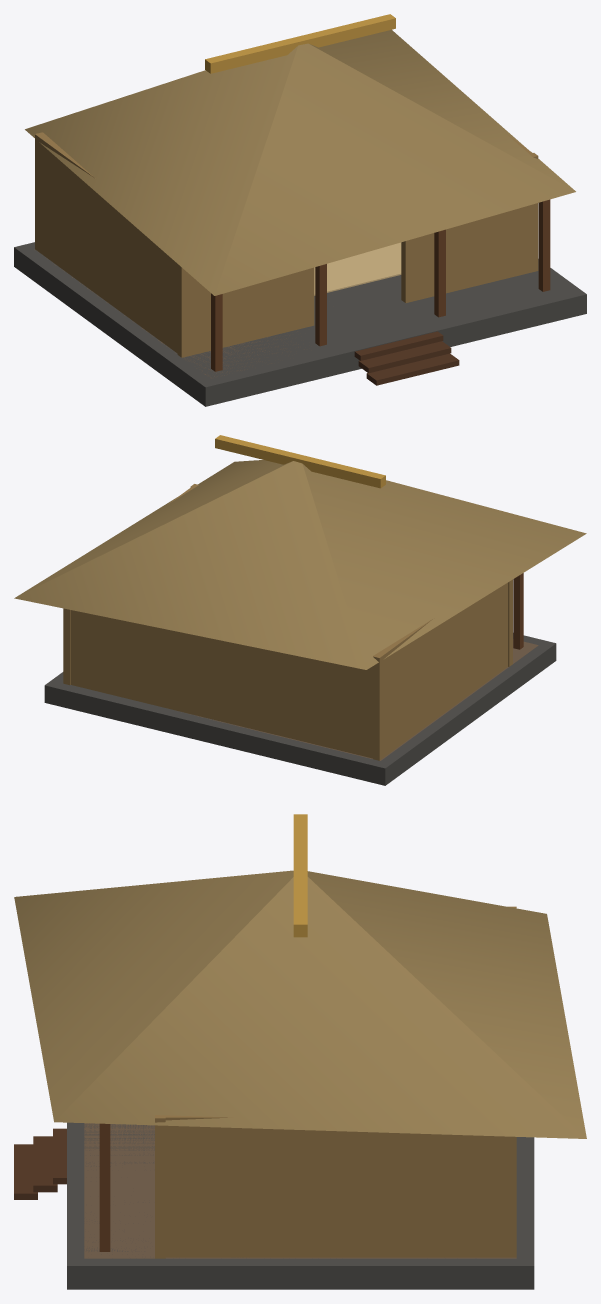
Rendered from bale-tani-sasak.glb.
3 renders of one model, top to bottom at view 1: azimuth 30°, elevation 25°; view 2: azimuth 150°, elevation 25°; view 3: azimuth 270°, elevation 25°, orthographic. The views are drawn at different scales.
Parts seen in each view (by area): view 1: ROOF_SYSTEM, WALL_SYSTEM, FOUNDATION_SYSTEM, STRUCTURAL_COLUMNS, ENTRANCE_STAIRS, INTERIOR_MAT; view 2: ROOF_SYSTEM, WALL_SYSTEM, FOUNDATION_SYSTEM, STRUCTURAL_COLUMNS, FLOOR_SYSTEM; view 3: ROOF_SYSTEM, WALL_SYSTEM, FOUNDATION_SYSTEM, FLOOR_SYSTEM, ENTRANCE_STAIRS, STRUCTURAL_COLUMNS.
Boxes of the visible parts, <box> form: ROOF_SYSTEM: <box>25,14,575,295</box>; WALL_SYSTEM: <box>35,132,538,357</box>; FOUNDATION_SYSTEM: <box>14,242,586,406</box>; STRUCTURAL_COLUMNS: <box>211,199,550,371</box>; ENTRANCE_STAIRS: <box>354,331,459,385</box>; INTERIOR_MAT: <box>314,242,401,295</box>; ROOF_SYSTEM: <box>14,435,586,669</box>; WALL_SYSTEM: <box>63,484,512,760</box>; FOUNDATION_SYSTEM: <box>44,633,556,785</box>; STRUCTURAL_COLUMNS: <box>513,573,523,649</box>; FLOOR_SYSTEM: <box>181,639,538,760</box>; ROOF_SYSTEM: <box>14,814,586,1138</box>; WALL_SYSTEM: <box>155,906,516,1258</box>; FOUNDATION_SYSTEM: <box>67,1122,534,1289</box>; FLOOR_SYSTEM: <box>84,1123,516,1258</box>; ENTRANCE_STAIRS: <box>14,1128,66,1199</box>; STRUCTURAL_COLUMNS: <box>99,1123,110,1251</box>.
Size of what is drawn, in the model's own units: 9.81 by 5.8 by 9.81.
